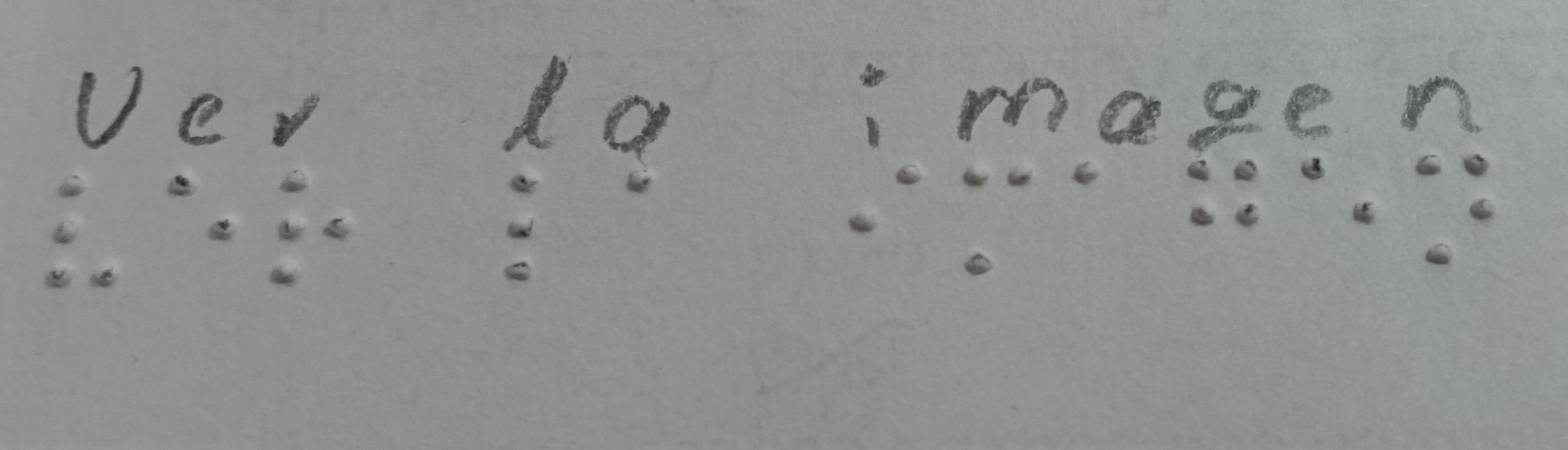a: (590, 162, 684, 204), (1057, 158, 1113, 192)
e: (161, 149, 243, 254), (1287, 151, 1381, 240)
g: (1176, 151, 1279, 246)
i: (825, 156, 942, 245)
l: (485, 164, 559, 299)
m: (947, 154, 1054, 286)
n: (1398, 148, 1516, 266)
r: (266, 166, 360, 289)
v: (41, 166, 127, 304)
